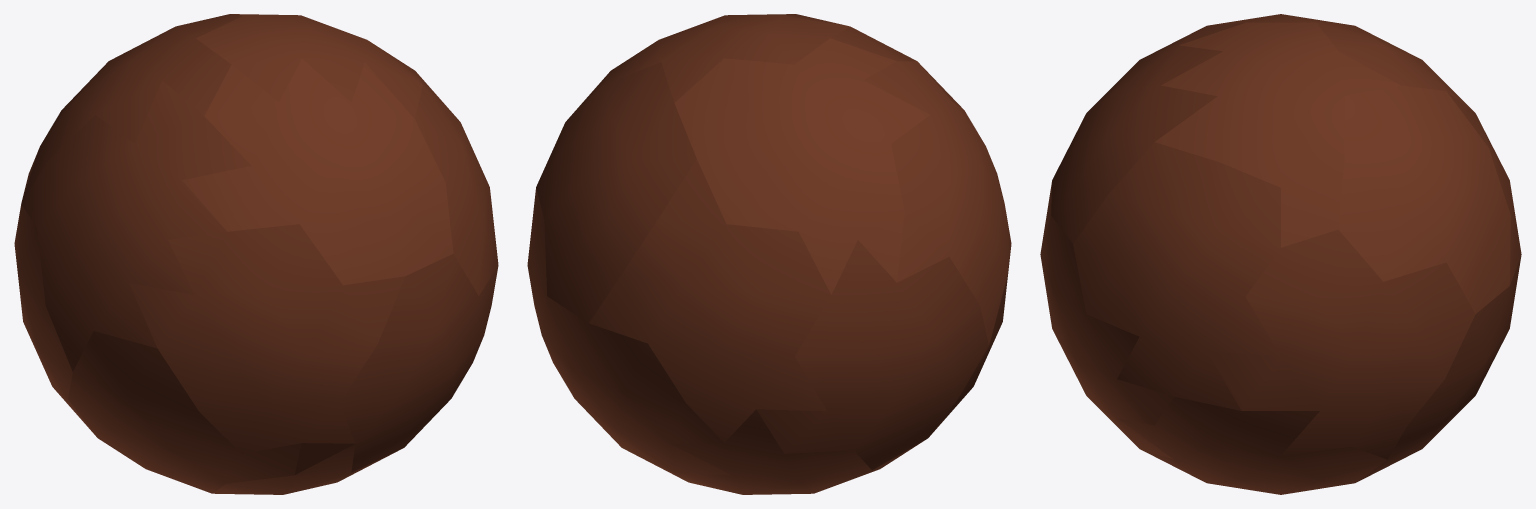
Rendered from dubai-broken.glb.
3 renders of one model, left to right at view 1: azimuth 30°, elevation 25°; view 2: azimuth 150°, elevation 25°; view 3: azimuth 270°, elevation 25°, orthographic.
Visible parts, largest first — view 1: fragment_07, fragment_02, fragment_04, fragment_10, fragment_12, fragment_01, fragment_00, fragment_05, fragment_09, fragment_15; view 2: fragment_01, fragment_06, fragment_09, fragment_03, fragment_04, fragment_11, fragment_00, fragment_14, fragment_08, fragment_02, fragment_12; view 3: fragment_05, fragment_08, fragment_03, fragment_00, fragment_13, fragment_02, fragment_10, fragment_11, fragment_01, fragment_06.
Boxes of the visible parts, x1,y1,x2,y2 form: fragment_07: (129,224,405,453); fragment_02: (182,58,453,285); fragment_04: (21,80,251,371); fragment_10: (294,253,498,474); fragment_12: (68,331,301,493); fragment_01: (21,14,243,202); fragment_00: (196,14,422,118); fragment_05: (414,72,498,332); fragment_09: (14,148,96,436); fragment_15: (213,444,400,494); fragment_01: (674,38,929,294); fragment_06: (589,159,831,442); fragment_09: (756,240,988,469); fragment_03: (536,62,696,322); fragment_04: (864,61,1011,345); fragment_11: (541,296,730,481); fragment_00: (567,14,849,119); fragment_14: (671,409,926,494); fragment_08: (527,187,546,334); fragment_02: (783,14,963,109); fragment_12: (929,249,1010,436); fragment_05: (1073,142,1280,410); fragment_08: (1207,229,1475,459); fragment_03: (1338,85,1510,313); fragment_00: (1155,22,1400,247); fragment_13: (1117,397,1387,494); fragment_02: (1051,23,1243,243); fragment_10: (1040,216,1173,459); fragment_11: (1356,256,1521,482); fragment_01: (1208,14,1474,112); fragment_06: (1447,92,1521,285).
Size of the model in its own units: 2 by 2 by 2.
